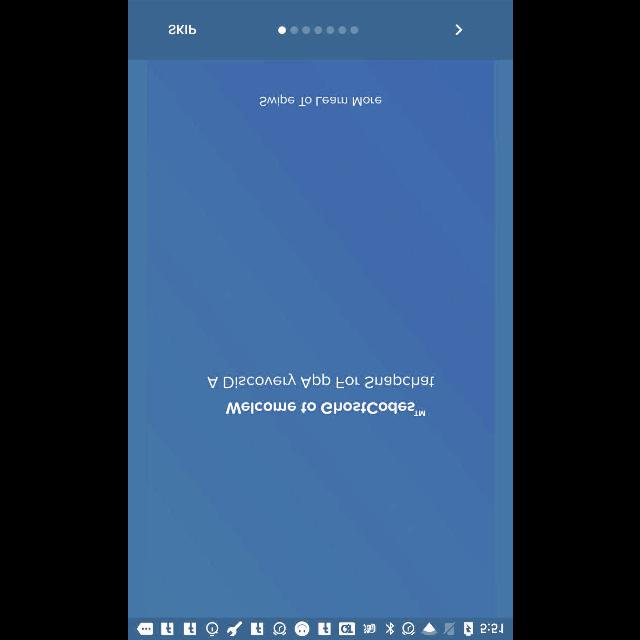icon: (454, 24, 462, 36)
pageindicator: (276, 26, 358, 34)
text: (206, 372, 434, 390), (224, 400, 426, 416), (259, 94, 381, 106), (168, 25, 196, 35)
uppertaskbar: (128, 617, 512, 639)
